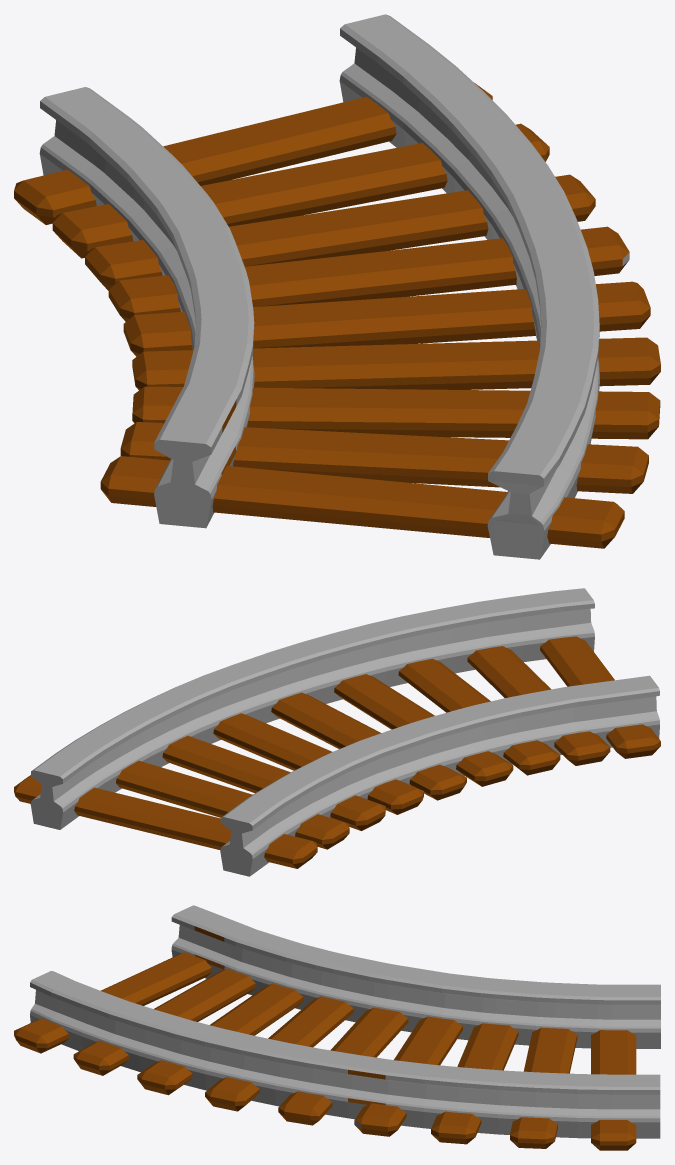
File: Ray45lik.fbx
3 renders of one model, top to bottom at view 1: azimuth 30°, elevation 25°; view 2: azimuth 150°, elevation 25°; view 3: azimuth 270°, elevation 25°, orthographic. The views are drawn at different scales.
Visible parts, largest first — view 1: Railroad2; view 2: Railroad2; view 3: Railroad2.
Boxes of the visible parts, x1=… form: Railroad2: x1=14, y1=14, x2=660, y2=559; Railroad2: x1=14, y1=588, x2=660, y2=876; Railroad2: x1=14, y1=905, x2=660, y2=1150.
Size of the model in its own units: 1.56 by 0.1816 by 2.06.
